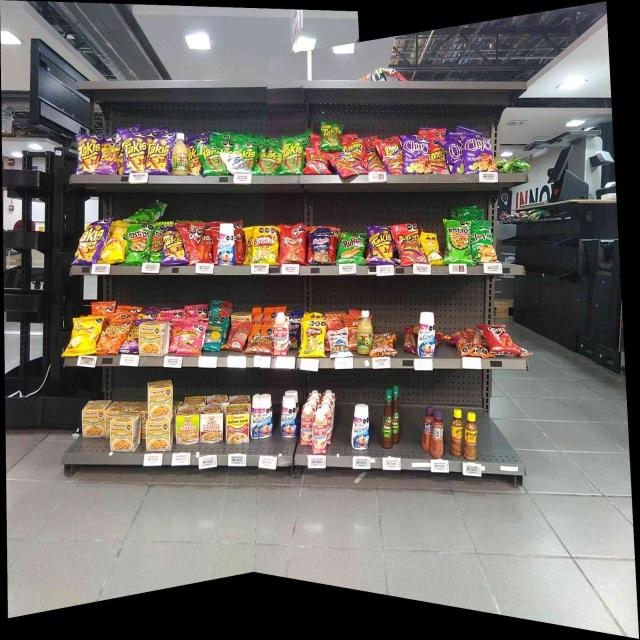bokadosCacahuates: (312, 229, 331, 265)
botaneraChilito: (466, 412, 478, 461), (450, 409, 462, 457)
cheetosFlaminHot: (122, 133, 147, 175), (149, 137, 171, 174), (101, 144, 118, 174), (188, 148, 200, 176)
cheetosOriginal: (100, 318, 123, 354)
chipsFuego: (466, 136, 492, 172), (403, 139, 429, 174), (79, 223, 100, 264), (448, 142, 464, 174)
chipsJalapeno: (472, 222, 492, 264)
churrumais: (177, 322, 200, 356)
delPrimoSalsa: (356, 310, 372, 356), (172, 134, 186, 177)
doritosNacho: (184, 224, 209, 264), (486, 325, 512, 352)
fritosLimon: (254, 227, 278, 264), (301, 321, 324, 357)
leoCacahuates: (328, 331, 349, 357), (220, 151, 241, 173)
leoMix: (251, 327, 272, 355), (375, 334, 396, 356)
maruchanPollo: (110, 416, 138, 452), (140, 324, 168, 356), (82, 400, 105, 438), (148, 384, 172, 418), (146, 422, 172, 452)
maruchanRes: (227, 406, 248, 442)
nestleCarnation: (274, 313, 288, 356), (312, 413, 326, 454), (302, 406, 310, 447)
nestleLechera: (351, 403, 369, 450), (418, 313, 434, 357), (218, 224, 234, 265), (281, 398, 296, 439), (260, 397, 272, 438)
nissinCamaron: (176, 407, 198, 445)
nissinRes: (201, 407, 222, 445)
productoAtras: (227, 320, 247, 351)
rancheritos: (282, 226, 306, 264)
rufflesQueso: (338, 233, 366, 266)
runners: (394, 226, 419, 265), (381, 141, 402, 174), (306, 152, 329, 175), (431, 142, 446, 174), (347, 140, 362, 164)
sabritasOriginal: (69, 319, 95, 355)
salsaBufalo: (381, 390, 394, 448)
semillasCalabaza: (421, 233, 442, 265)
semillasGirasol: (206, 316, 222, 352)
tajinDulce: (432, 414, 442, 458), (422, 408, 430, 450)
takisFuego: (77, 133, 99, 174), (368, 228, 391, 263), (163, 230, 182, 264)
takisOriginal: (282, 140, 302, 175), (258, 146, 280, 174), (321, 123, 342, 150), (202, 144, 216, 174), (244, 142, 256, 168)
tostitos: (446, 220, 470, 266), (127, 224, 149, 264), (150, 228, 161, 264)
